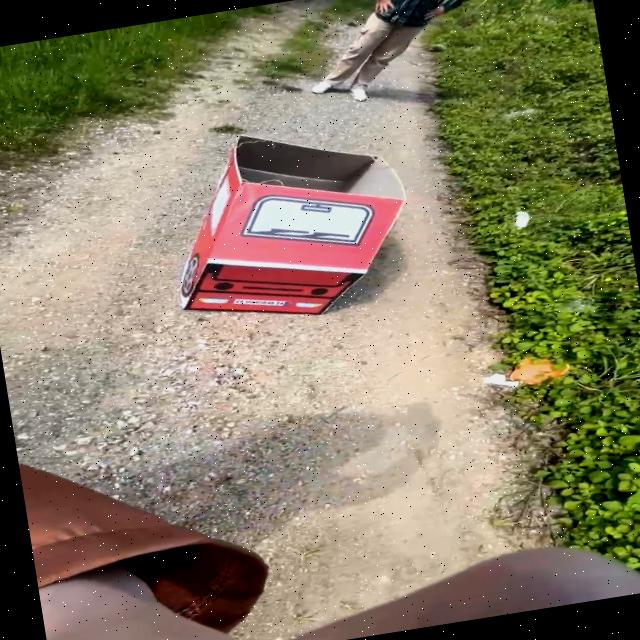red_car: (119, 92, 499, 345)
